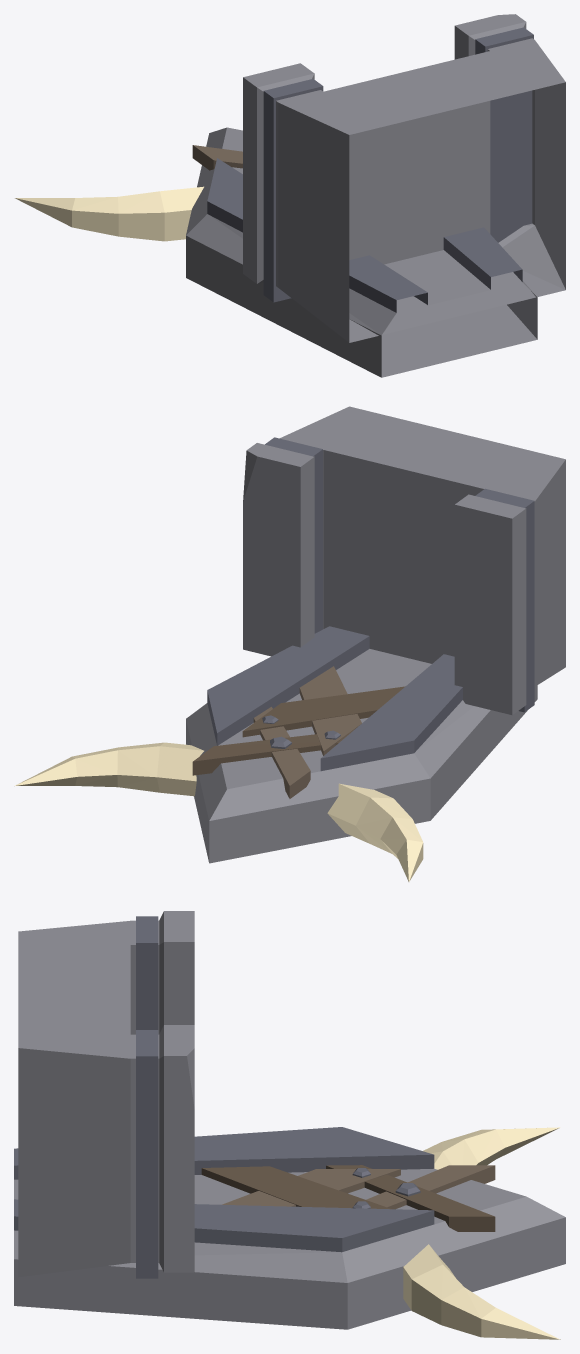
Rendered from throne.glb.
The picture shows the model from 3 angles, top to bottom: view 1: azimuth 30°, elevation 25°; view 2: azimuth 150°, elevation 25°; view 3: azimuth 270°, elevation 25°; orthographic projection. The views are drawn at different scales.
Visible parts, largest first — view 1: throne; view 2: throne; view 3: throne.
Boxes of the visible parts, x1,y1,x2,y2 form: throne: (15, 14, 565, 377); throne: (15, 406, 565, 881); throne: (14, 911, 565, 1339).
Size of the model in its own units: 1.46 by 0.8969 by 1.6.
Materials: 1 (1 with a texture image).
